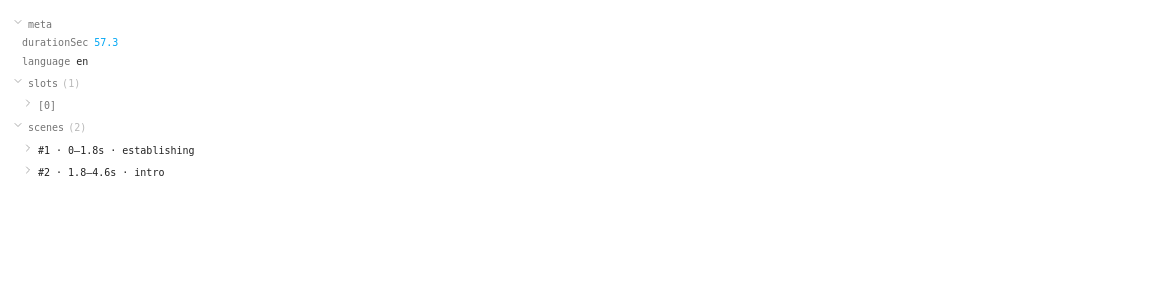
Test: JsonTree › drills into a closed item on click and reveals its leaves
Click the button "#1 · 0–1.8s · establishing".
click(116, 150)  # box x1=12 y1=138 x2=1164 y2=160
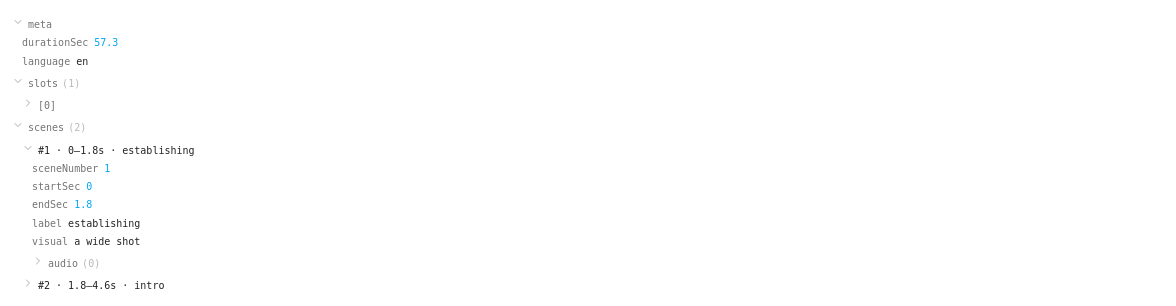
Expected: the text "a wide shot" is shown, x1=74 y1=234 x2=140 y2=250
